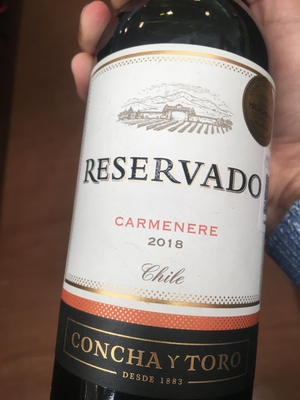reservado carmenere: (65, 15, 267, 400)
